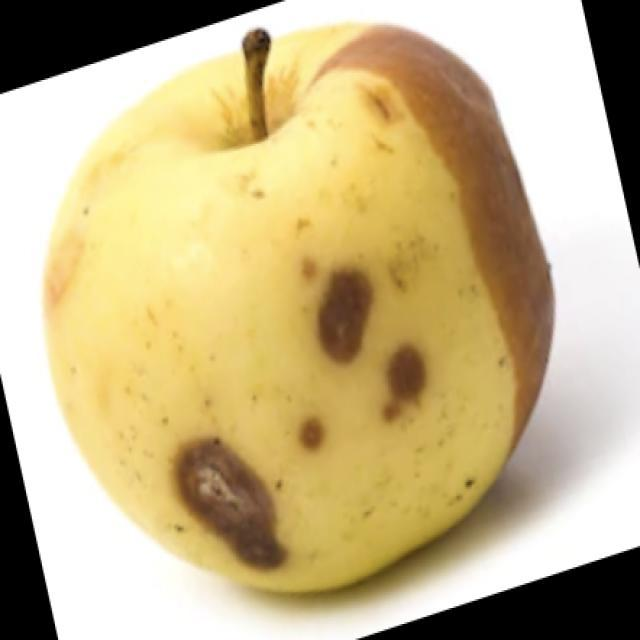Rotten: (37, 20, 560, 600)
